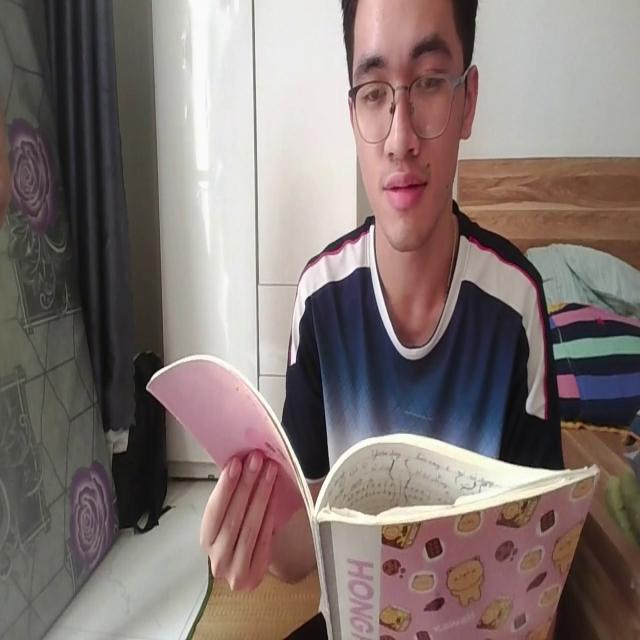book: (146, 348, 598, 640)
student: (184, 0, 577, 597)
